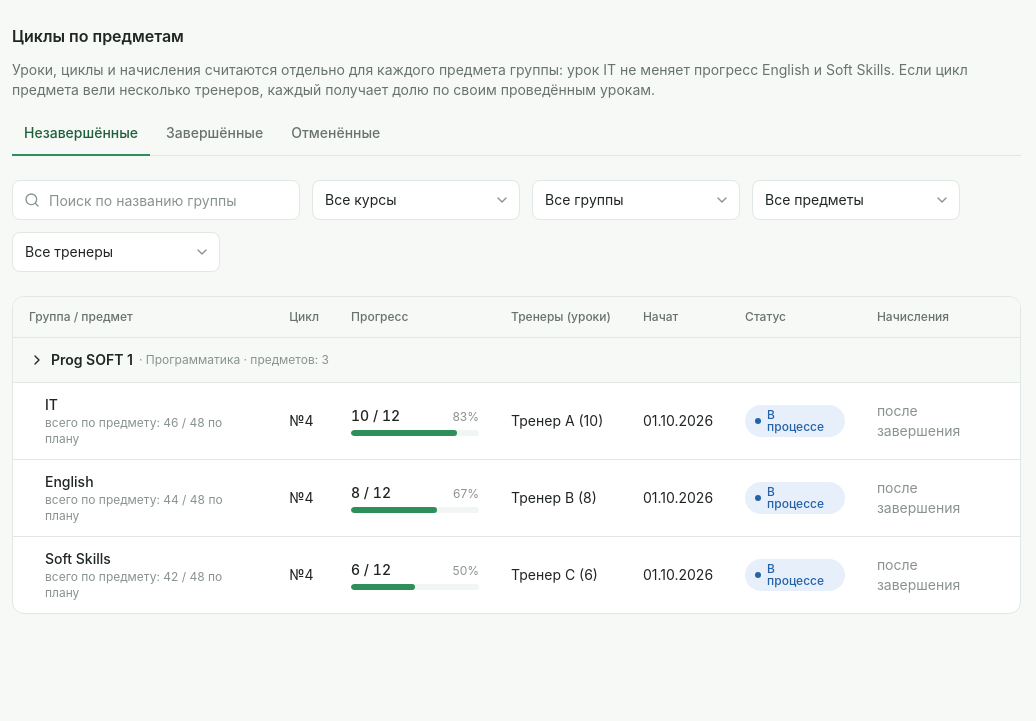
Test: SubjectCyclesSection › expands a group to show per-subject details
Click the button "Prog SOFT 1 · Программатика · предметов: 3" at (179,360), box [29,350,329,370]
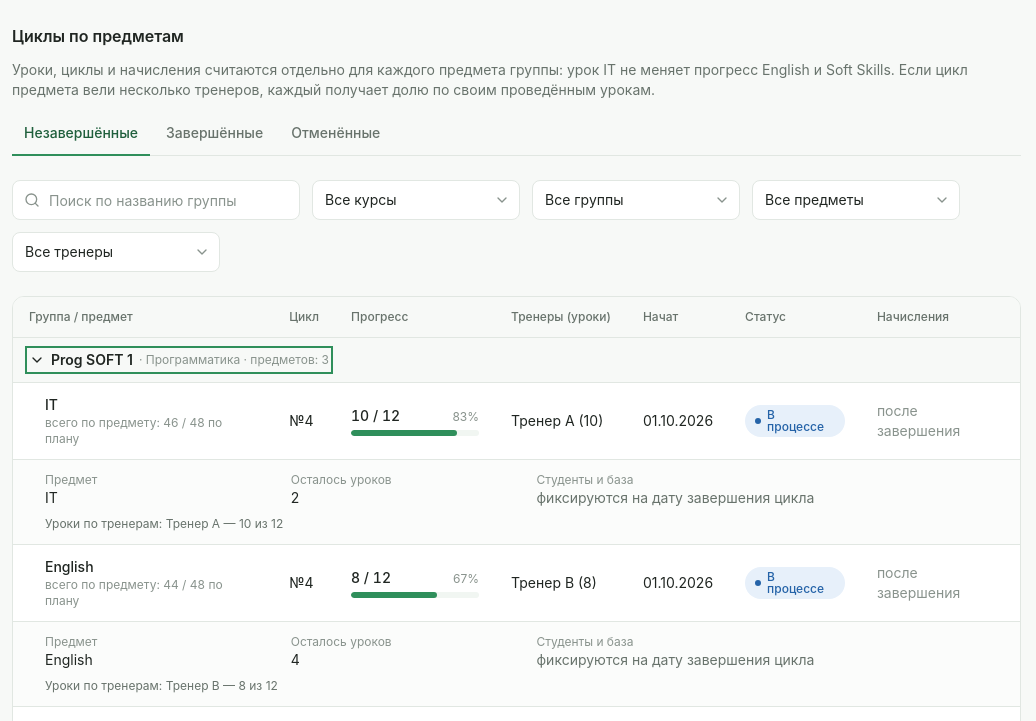
Result: the button "Prog SOFT 1 · Программатика · предметов: 3" is expanded at [29,350,329,370]
Result: the text "Уроки по тренерам: Тренер A — 10 из 12" is shown at [45,516,283,531]
